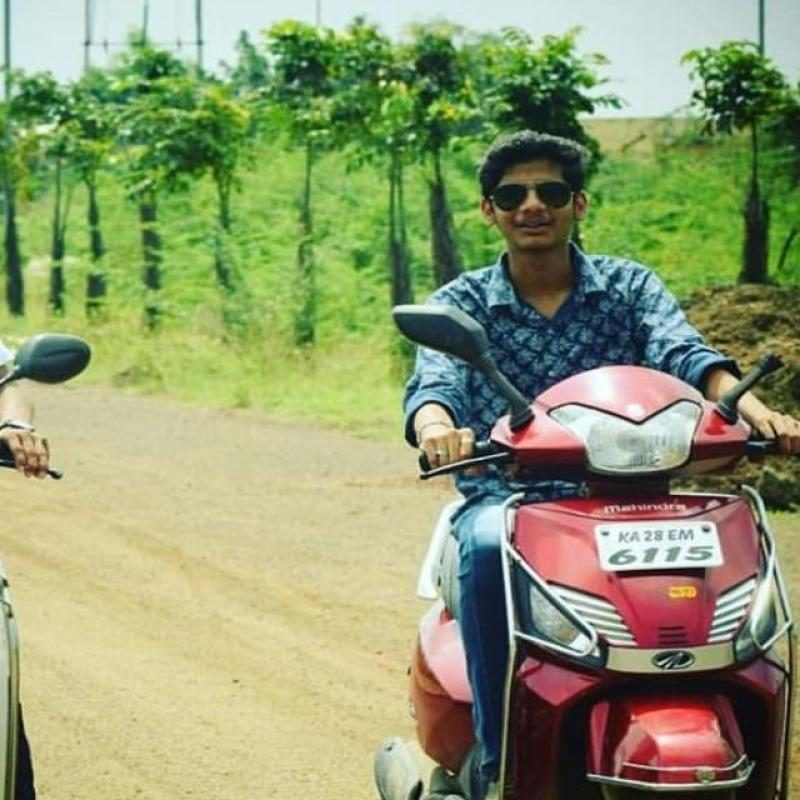nohelmet: (477, 118, 611, 266)
